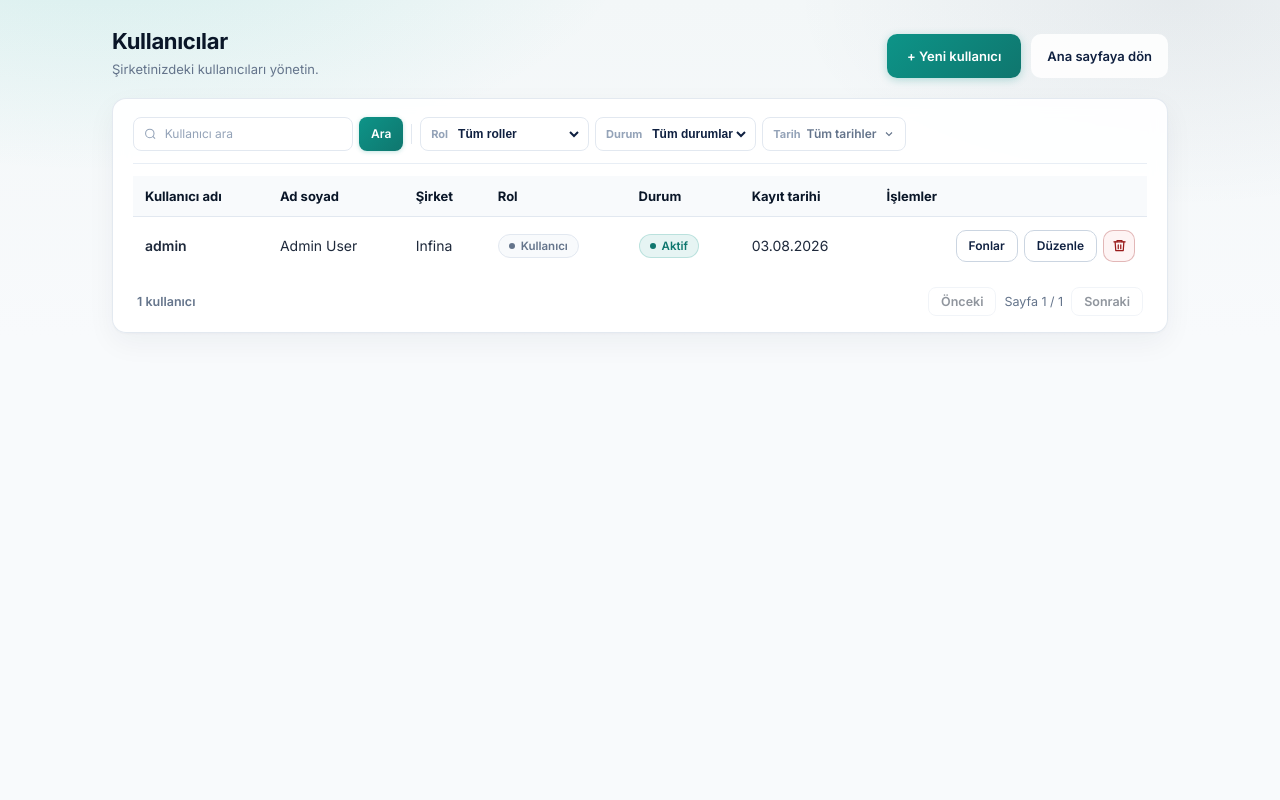
UsersPage › company manager kullanıcıya ait fonları dialogda açabilir
What coordinates should you click on to do the following:
click the button with aria-label "admin fonlarını görüntüle"
I would click on:
 (987, 246)
Its box is [956, 230, 1018, 262].
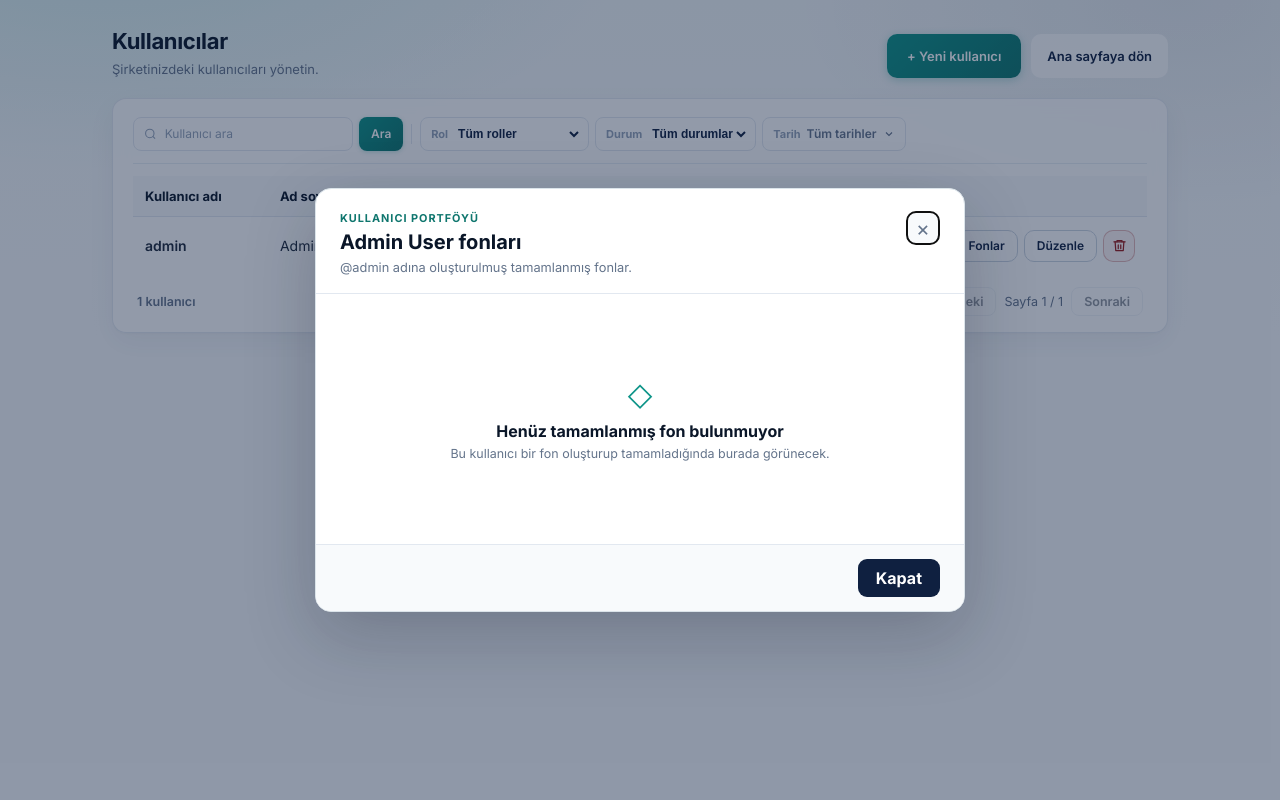
expect the dialog shows "Admin User fonları": met, box [315, 188, 965, 612]
